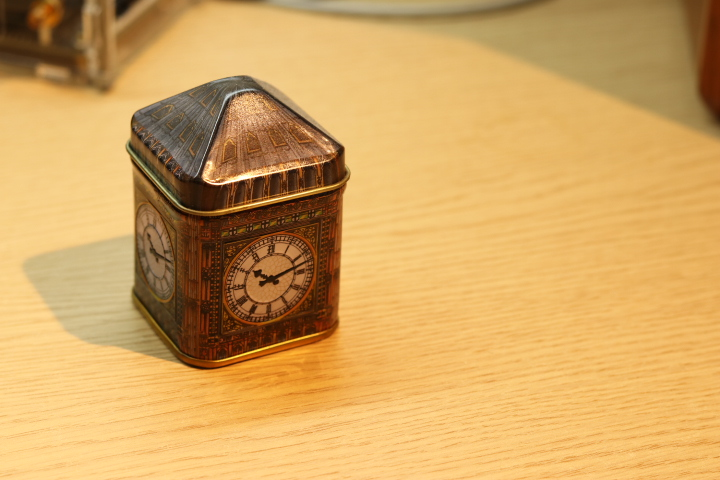Big Ben: (123, 60, 382, 394)
